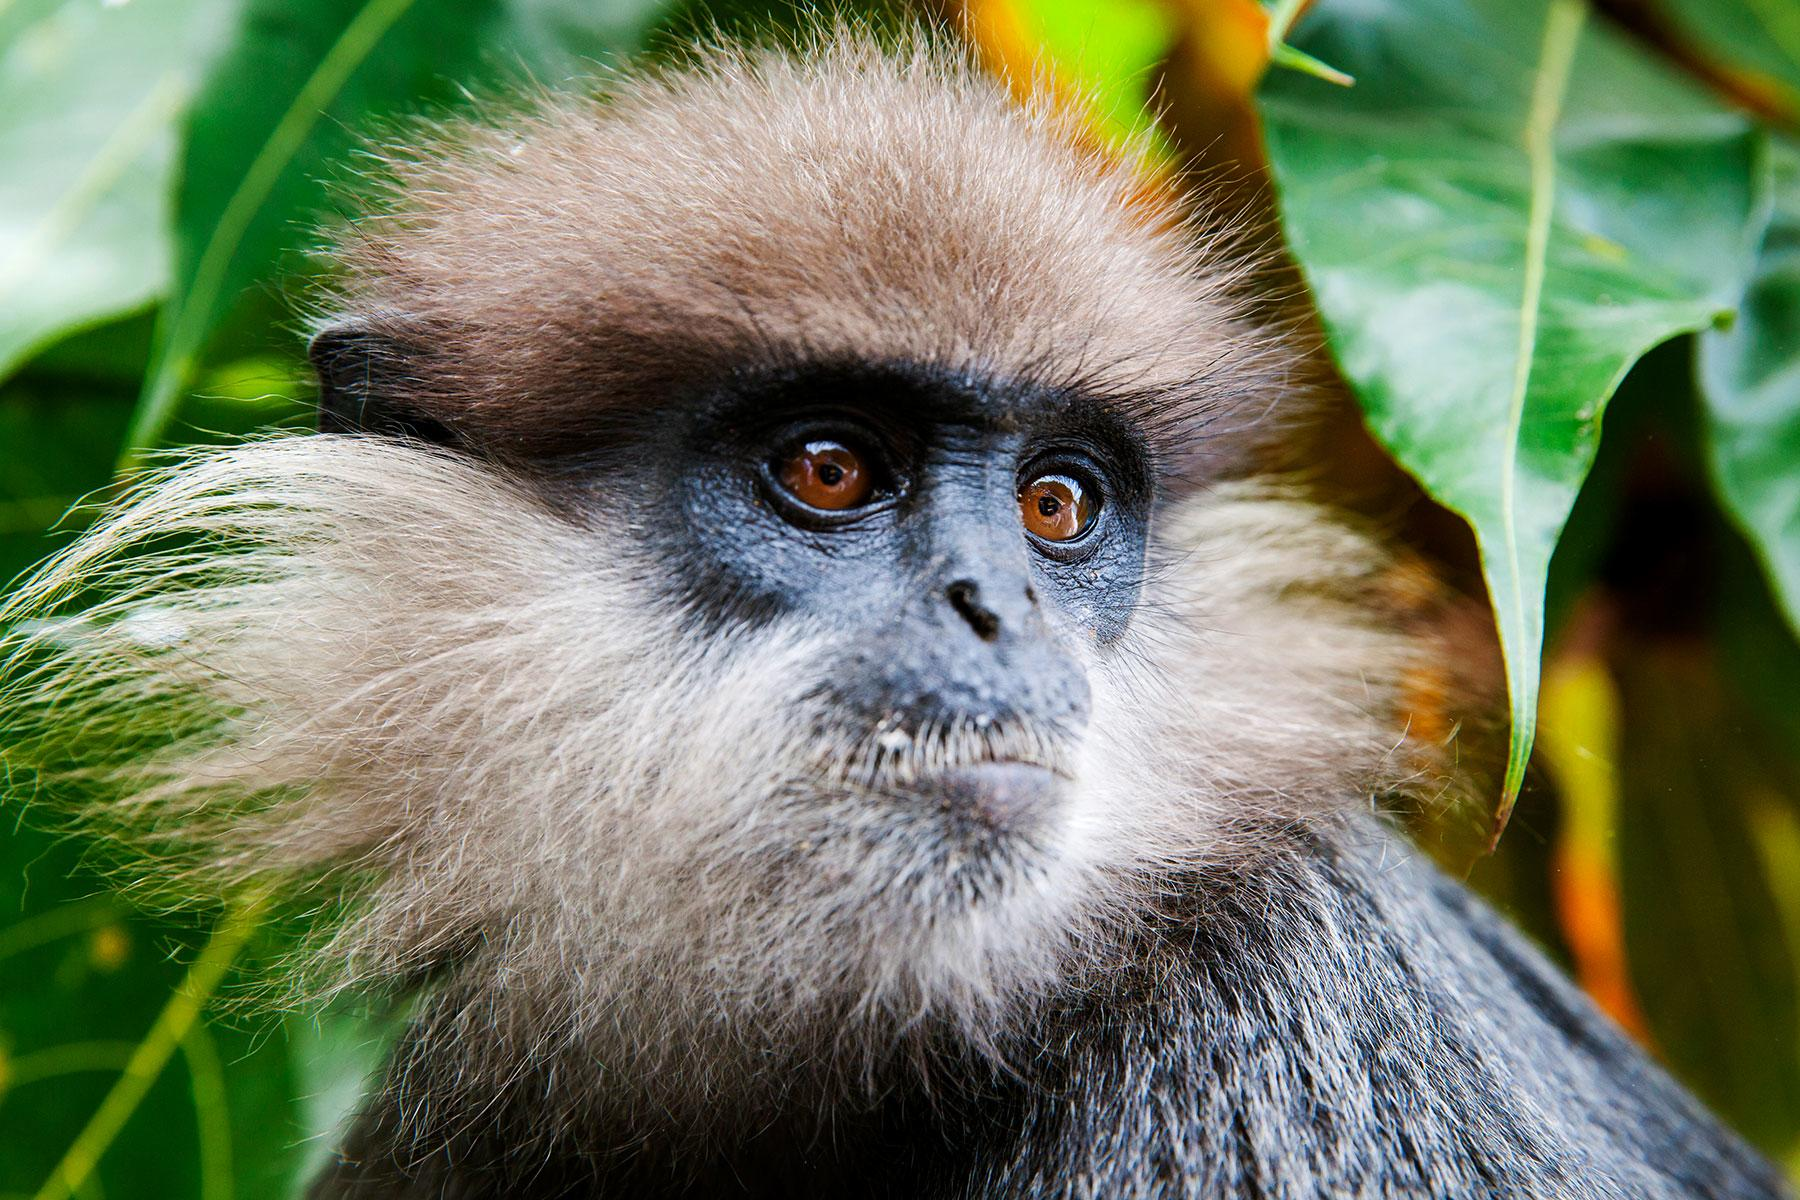Monkey: (8, 13, 1596, 1105)
